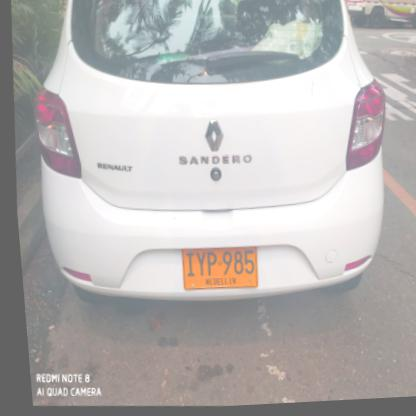placa: (170, 244, 258, 298)
